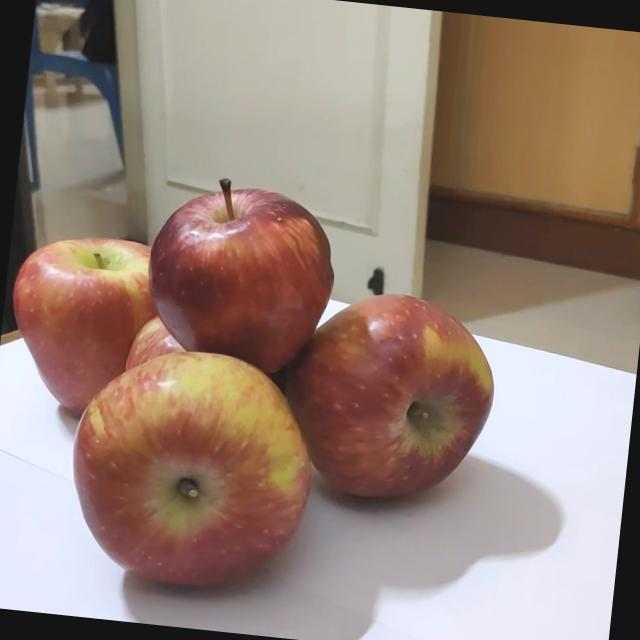apple: (47, 315, 317, 583), (268, 266, 511, 510), (128, 152, 350, 362), (16, 206, 174, 397)
